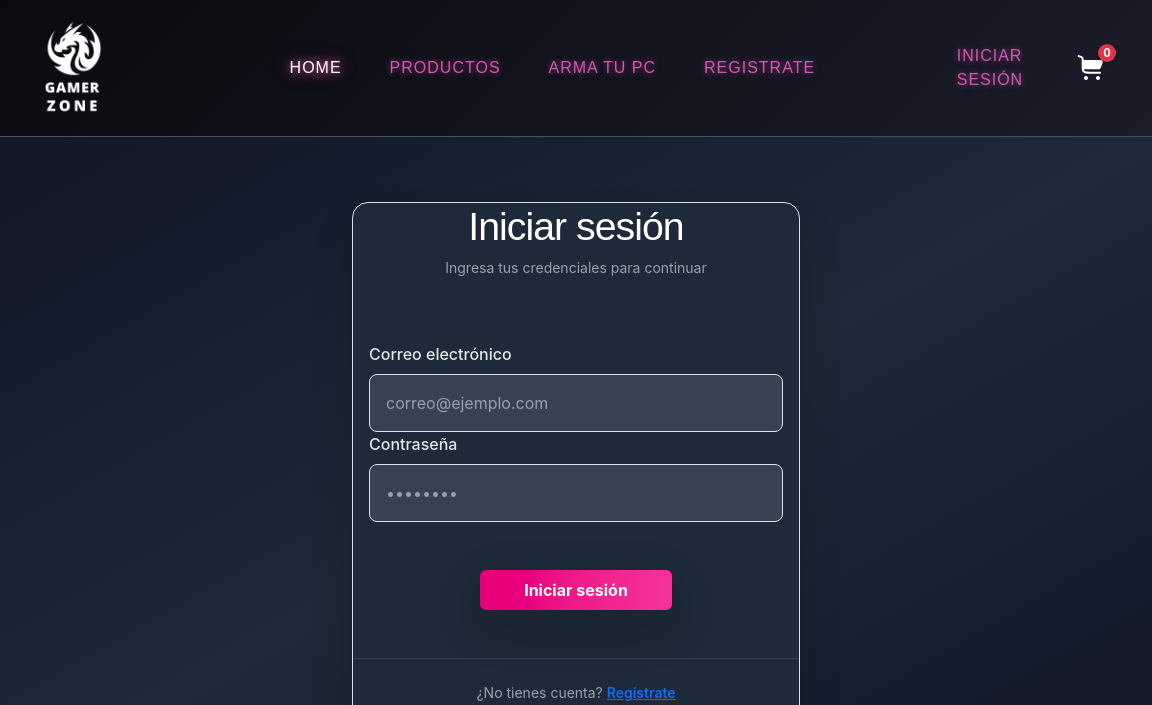
Login Component › muestra error de validacion de longitud minima
Type "a@" into the field with placeholder "correo@ejemplo.com". click: (576, 403)
box: [369,374,783,432]
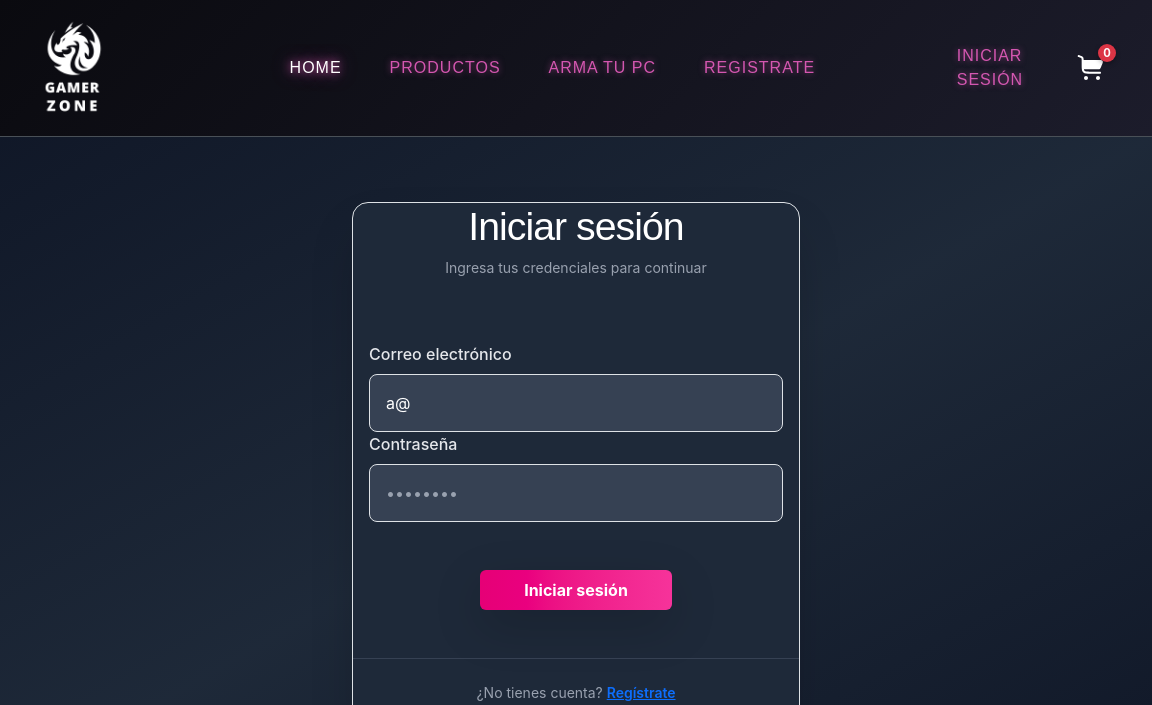
Leave the field with placeholder "correo@ejemplo.com", box [369,374,783,432]
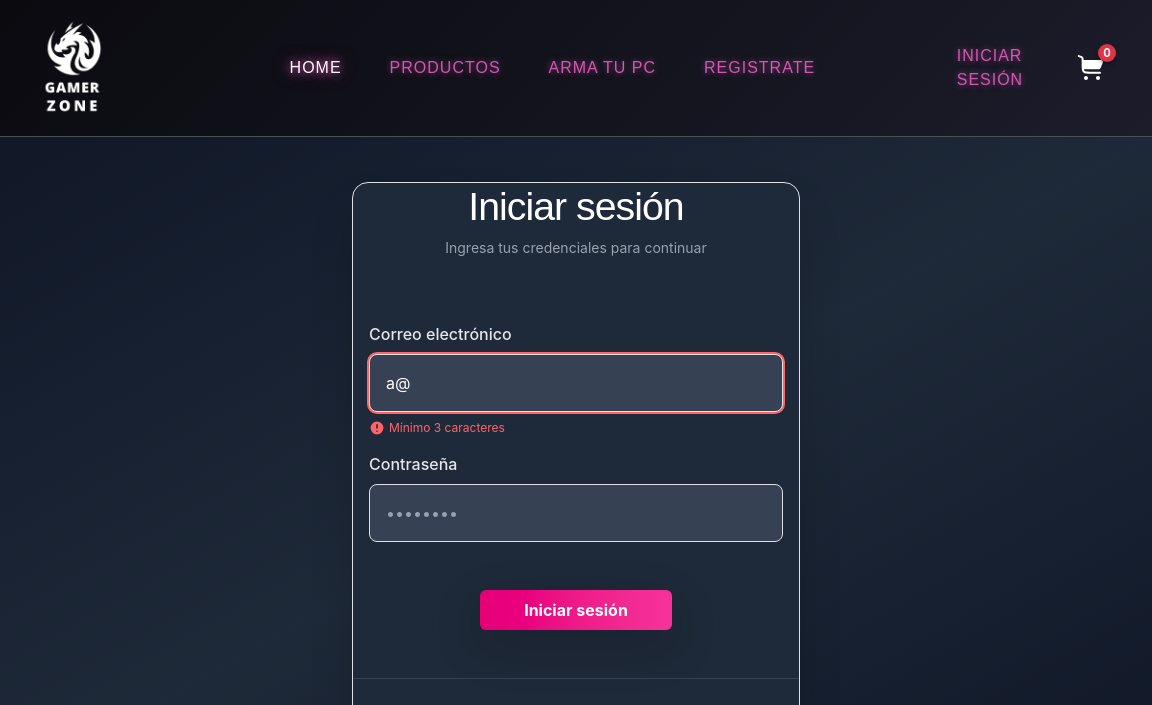
Now the text "Mínimo 3 caracteres" is shown, box [369,420,505,436]
